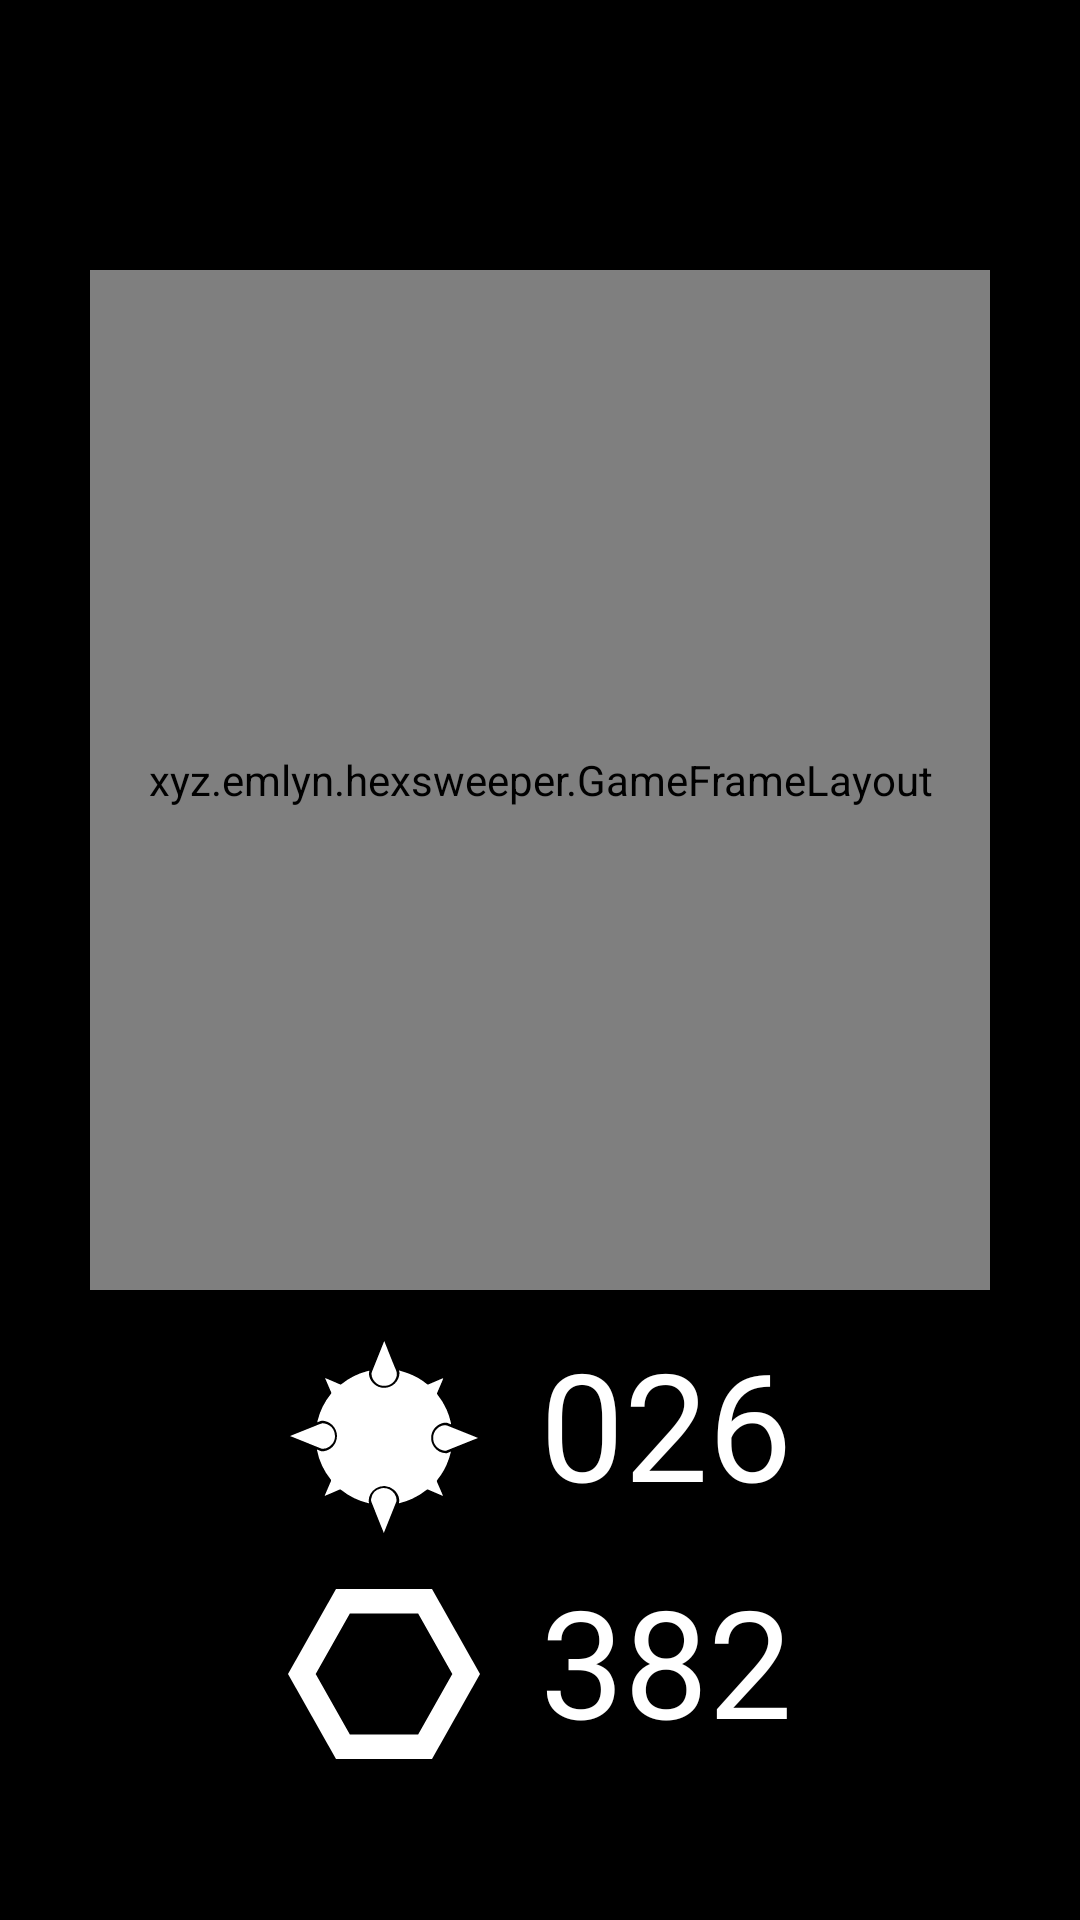

Where to tap for icons on this 1080*1920 app screen, as point (x, y):
hexagon: point (384, 1674)
mine: point (384, 1437)
